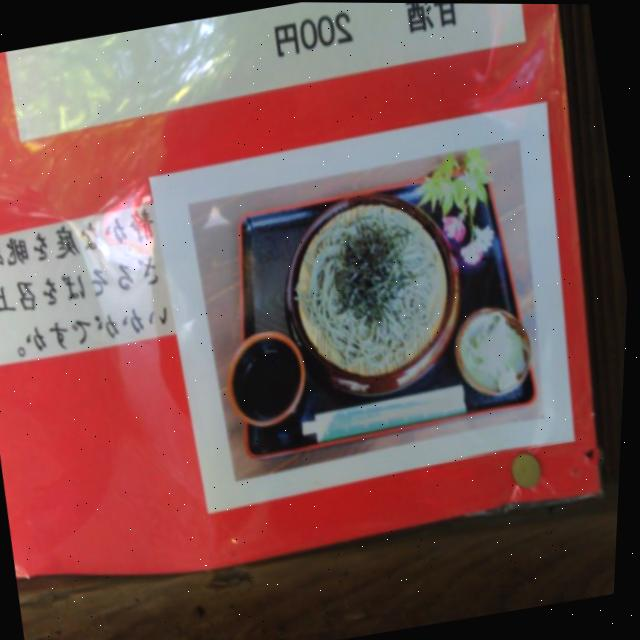面条主食: (267, 179, 473, 393)
